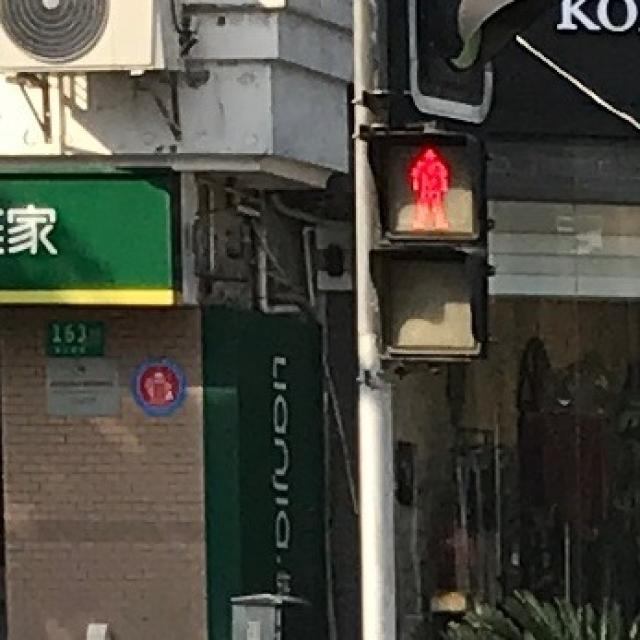red_light: (380, 130, 470, 234)
